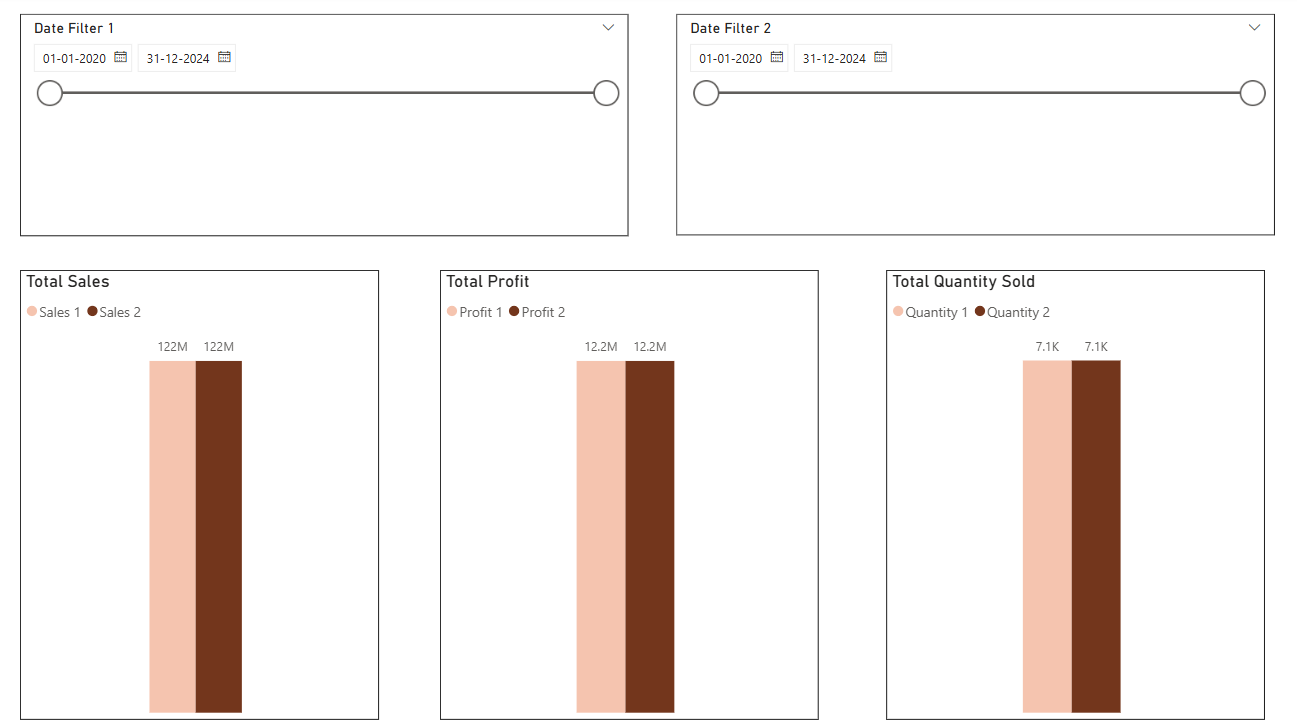

The page's visual inventory and layout, read from the dashboard file:
{"tool":"powerbi","page":{"name":"Comparison Sales /Profit/Quantity","canvas":[1280,720],"ordinal":2},"visuals":[{"type":"slicer","fields":{"Values":["Date Table 1.Date"]},"box":[24.5,18.3,595.5,217.7],"z":0},{"type":"slicer","fields":{"Values":["Date Table 2.Date"]},"box":[666.4,18.3,585.7,216.4],"z":1000},{"type":"clusteredColumnChart","title":"Total Sales","fields":{"Y":["Sum(Fact Table.Net Sales   )","Date Table 1.Sum of Net Sales"]},"box":[24.5,269,351,440.2],"z":2000},{"type":"clusteredColumnChart","title":"Total Profit","fields":{"Y":["Sum(Fact Table.Profit)","Measures Table.Total Profit"]},"box":[435.3,269,370.5,440.2],"z":3000},{"type":"clusteredColumnChart","title":"Total Quantity Sold","fields":{"Y":["Sum(Fact Table.Units Sold)","Measures Table.Quantity Sold"]},"box":[871.9,269,370.5,440.2],"z":4000}]}

Visuals, with their boxes in screenshot pixels (x1, y1, x2, y2), scaled from the page's 1280x720 canvas onto the 1297x725 screenshot:
slicer - Date Table 1.Date: crop(25, 18, 628, 238)
slicer - Date Table 2.Date: crop(675, 18, 1269, 236)
"Total Sales" clusteredColumnChart: crop(25, 271, 380, 714)
"Total Profit" clusteredColumnChart: crop(441, 271, 817, 714)
"Total Quantity Sold" clusteredColumnChart: crop(883, 271, 1259, 714)
